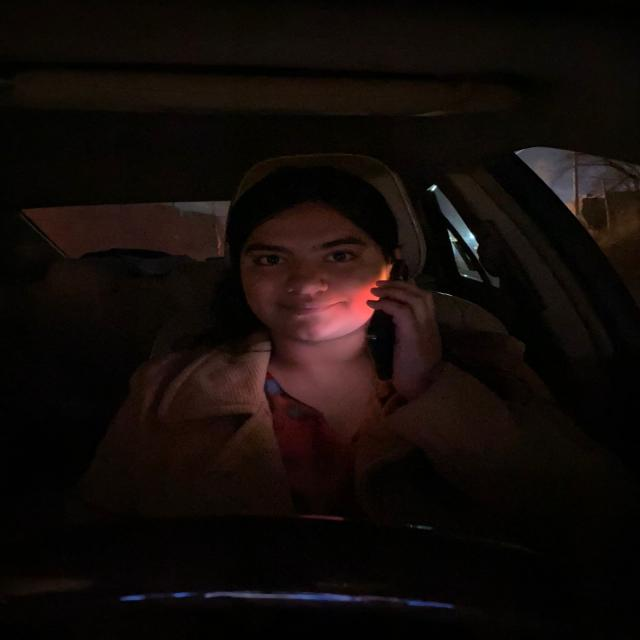mobile: (232, 178, 386, 365), (358, 271, 446, 371)
